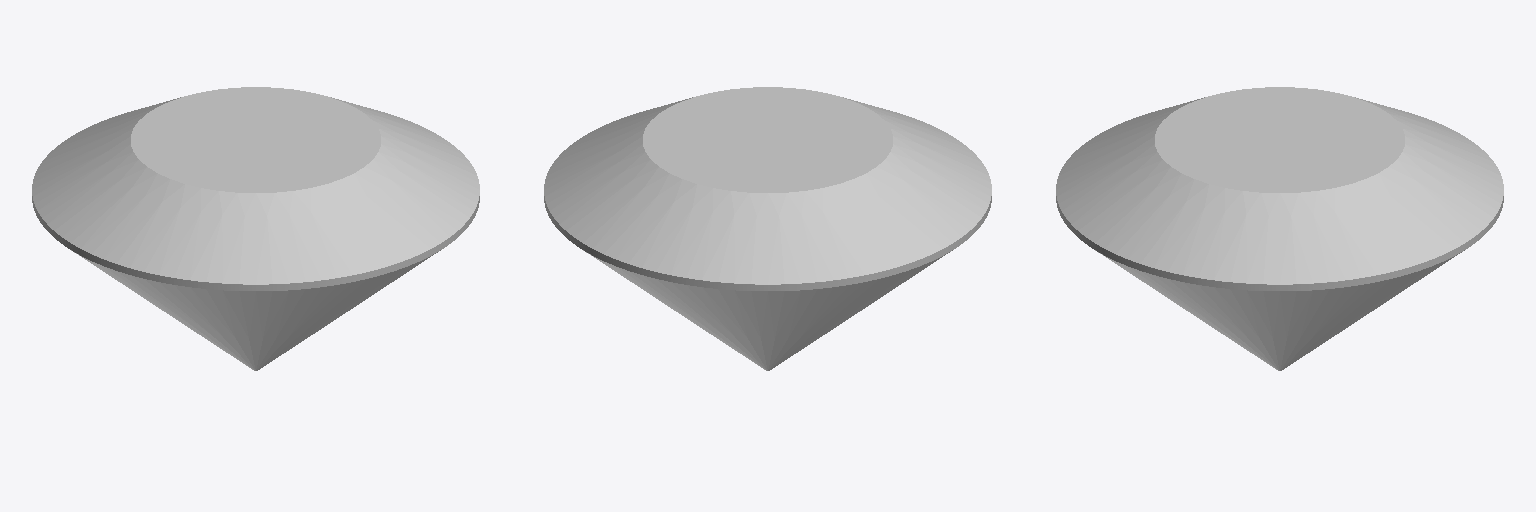
File: gem.obj
3 views of the same model, side by side, from view 1: azimuth 30°, elevation 25°; view 2: azimuth 150°, elevation 25°; view 3: azimuth 270°, elevation 25° (orthographic).
Visible parts, largest first — view 1: Gem_dmesh.001; view 2: Gem_dmesh.001; view 3: Gem_dmesh.001.
Boxes of the visible parts, x1,y1,x2,y2 form: Gem_dmesh.001: [32, 87, 479, 370]; Gem_dmesh.001: [544, 87, 991, 370]; Gem_dmesh.001: [1056, 87, 1503, 370].
Bounding box in the file's own units: 2 × 1.14 × 2.